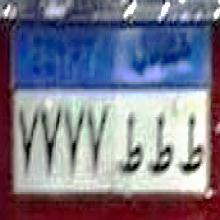7: (86, 105, 111, 173), (18, 103, 40, 178), (40, 103, 62, 174), (64, 104, 84, 172)
Taa: (178, 117, 207, 178), (120, 113, 146, 181), (149, 115, 176, 178)
